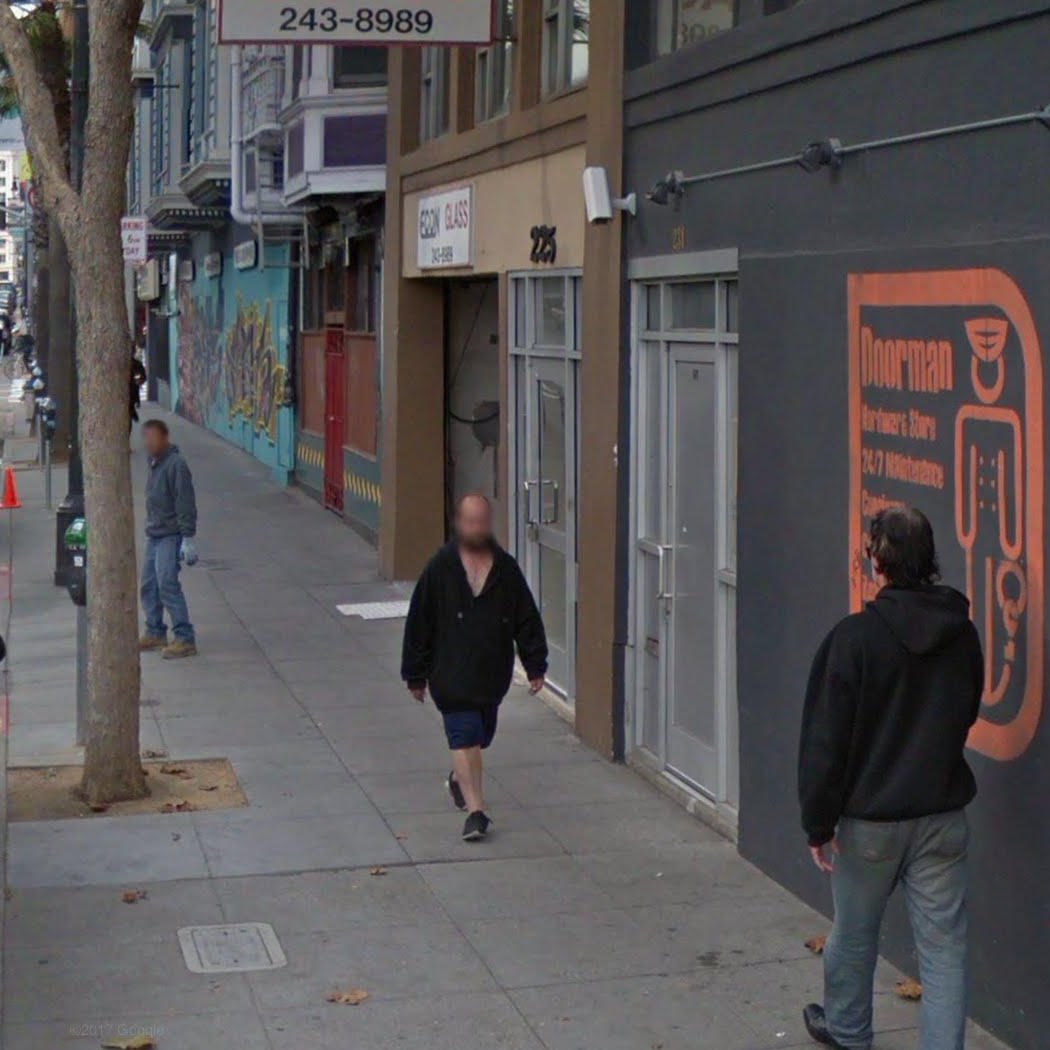No Parking: (116, 214, 148, 264)
